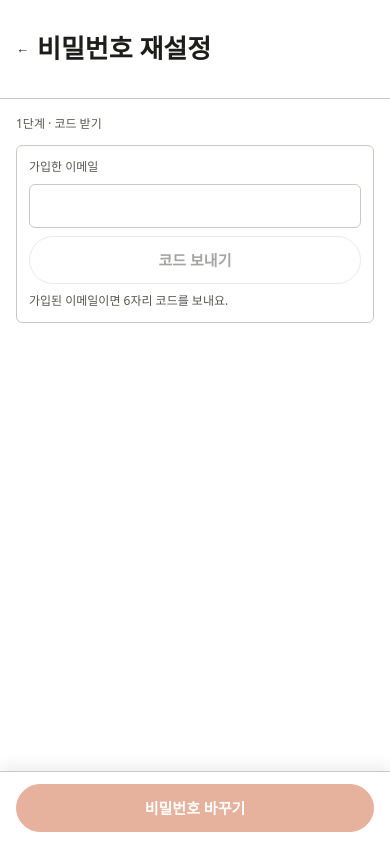
Test: PasswordResetPage (A3) › INVALID_RESET_CODE면 화면 문구를 보이고 코드·비밀번호와 URL을 유지한다
The width and height of the screenshot is (390, 844).
Expected: the heading "비밀번호 재설정" is shown, [37,29,211,68]
Type "a@b.c" into the field labelled "가입한 이메일".
click(195, 206); type("a@b.c")  # box [29,184,361,228]
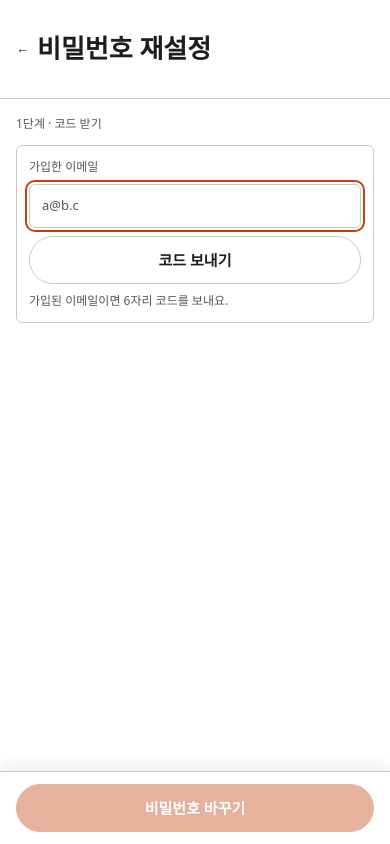
Click the button "코드 보내기".
click(195, 260)  # box [29,236,361,284]
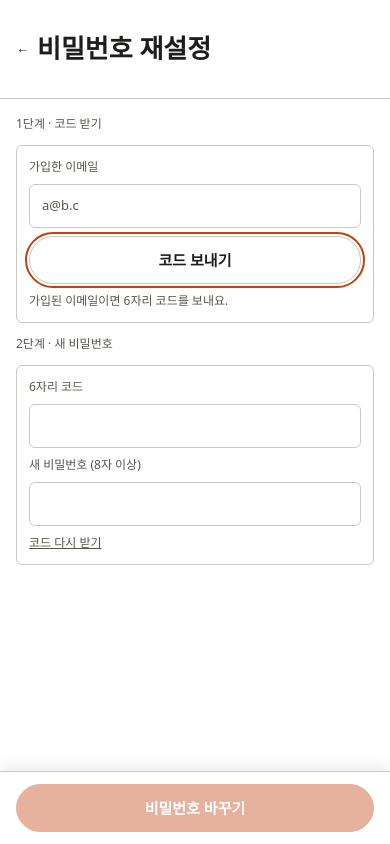
Type "123456" into the field labelled "6자리 코드".
click(195, 426); type("123456")  # box [29,404,361,448]
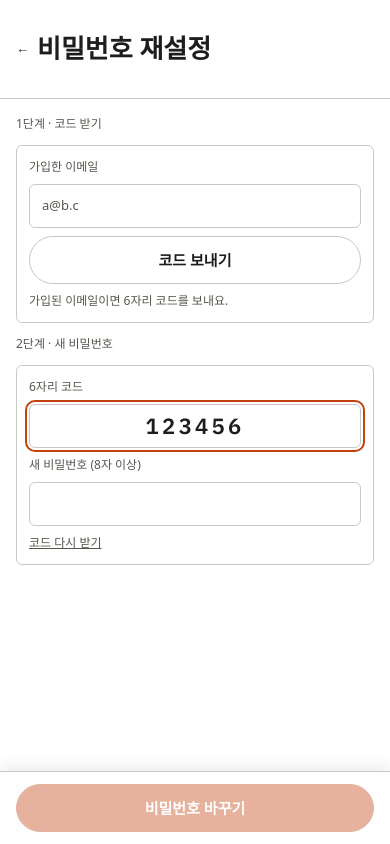
Type "pw123456" into the password field labelled "새 비밀번호 (8자 이상)".
click(195, 504); type("pw123456")  # box [29,482,361,526]
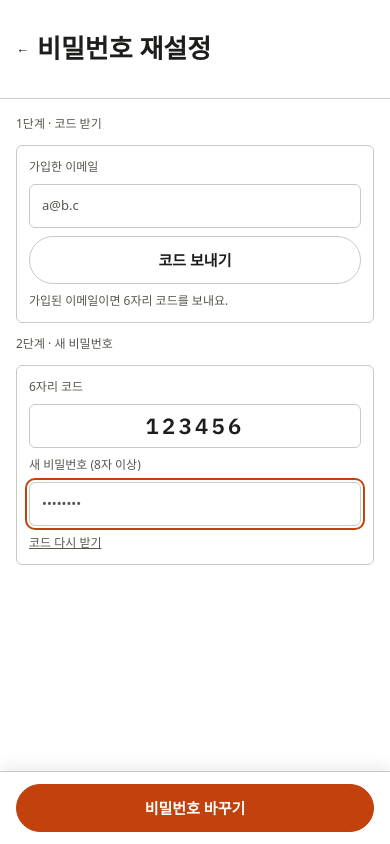
Click the button "비밀번호 바꾸기".
click(195, 808)  # box [16,784,374,832]
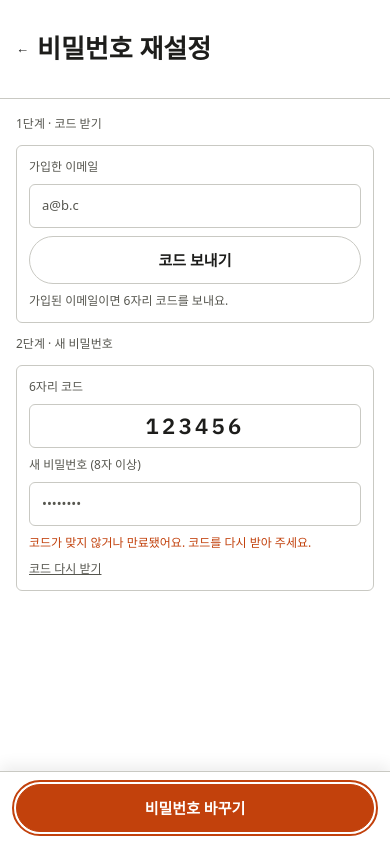
Expected: the message reads "코드가 맞지 않거나 만료됐어요. 코드를 다시 받아 주세요.", [29,534,311,551]
